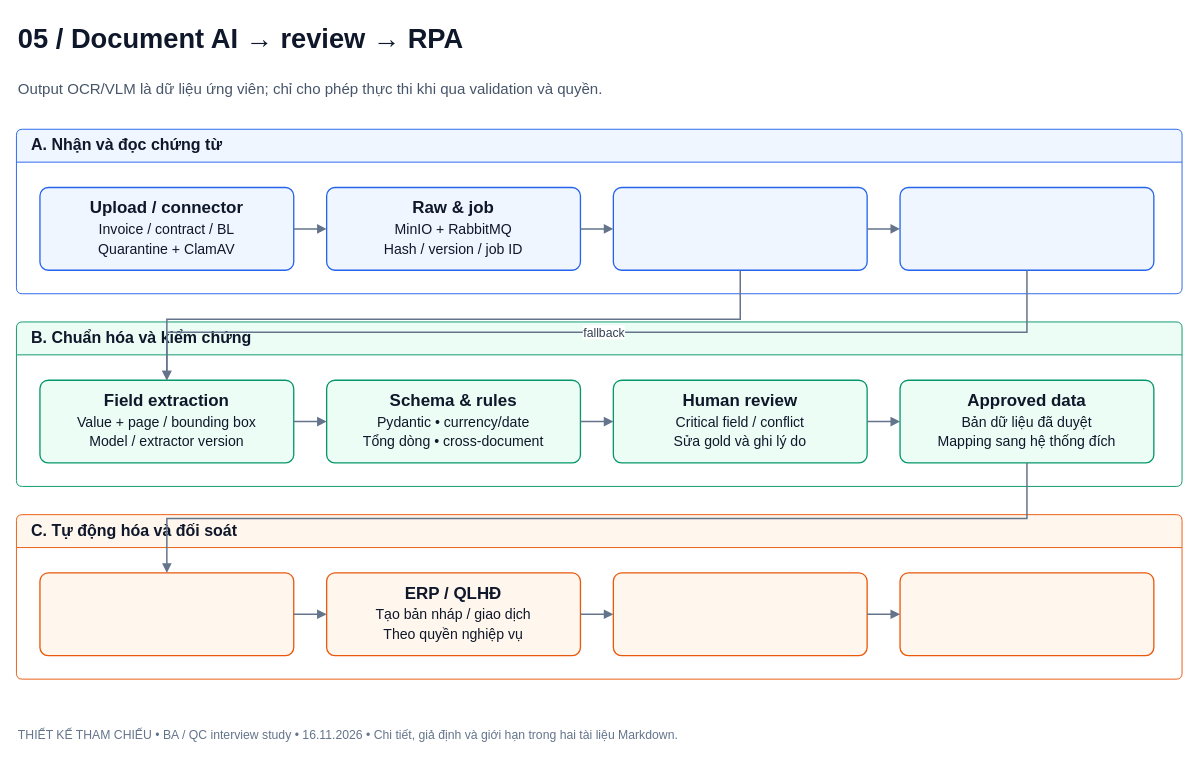
Some shapes in this 1199 by 771 pixel diagram are drawn without their labels. Here are the shapes that lost their labels. From the top down, the centre of each, then its label:
(739,228): OCR + layout OpenCV → PaddleOCR PP-Structure • bảng / trang
(1026,228): VLM khi cần Qwen2.5-VL Layout khó / vùng chưa rõ
(166,614): API / UiPath RPA Credentials qua vault Checkpoint + idempotency
(739,614): Reconciliation SQL / reference ID Không ghi trùng sau timeout
(1026,614): Quality & feedback Field exact match • review rate Trace → dataset vòng sau
